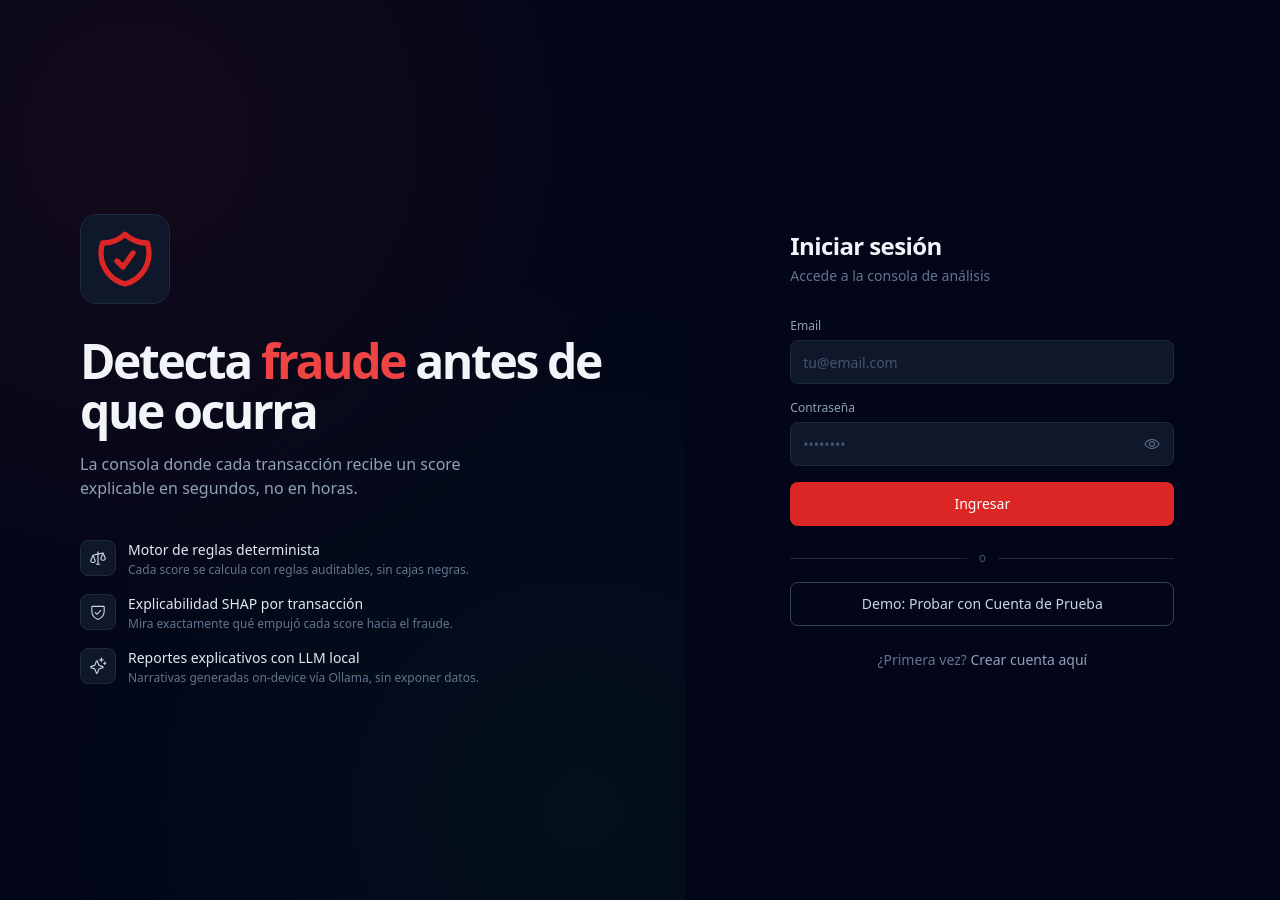
Scenario: LoginPage › shows the reserved error line for an invalid email
This screenshot has width=1280, height=900.
Type "no-es-un-email" into the field labelled "Email".
click(982, 362); type("no-es-un-email")  # box x1=790 y1=340 x2=1174 y2=384
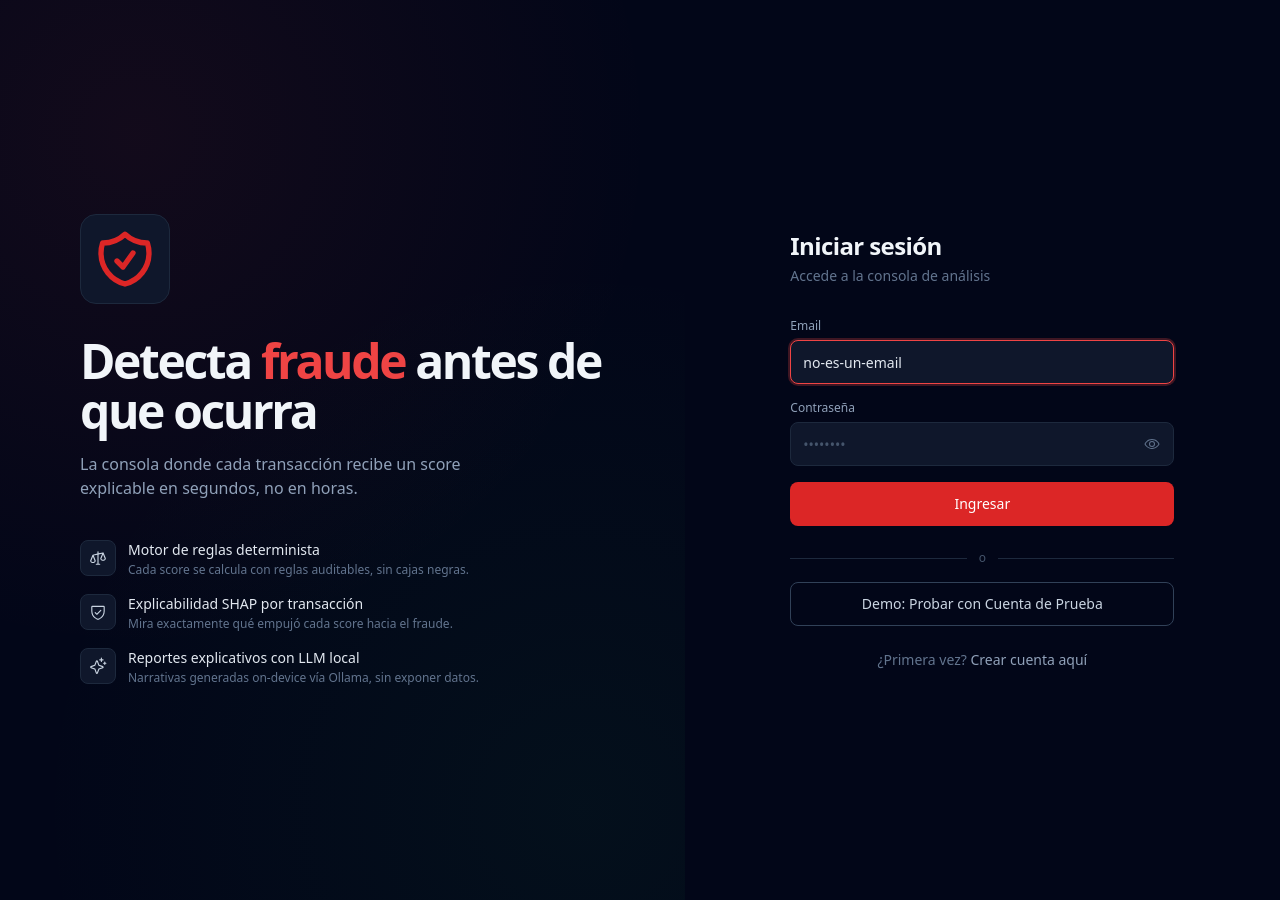
Type "whatever123" into the password field labelled "Contraseña".
click(982, 444); type("whatever123")  # box x1=790 y1=422 x2=1174 y2=466
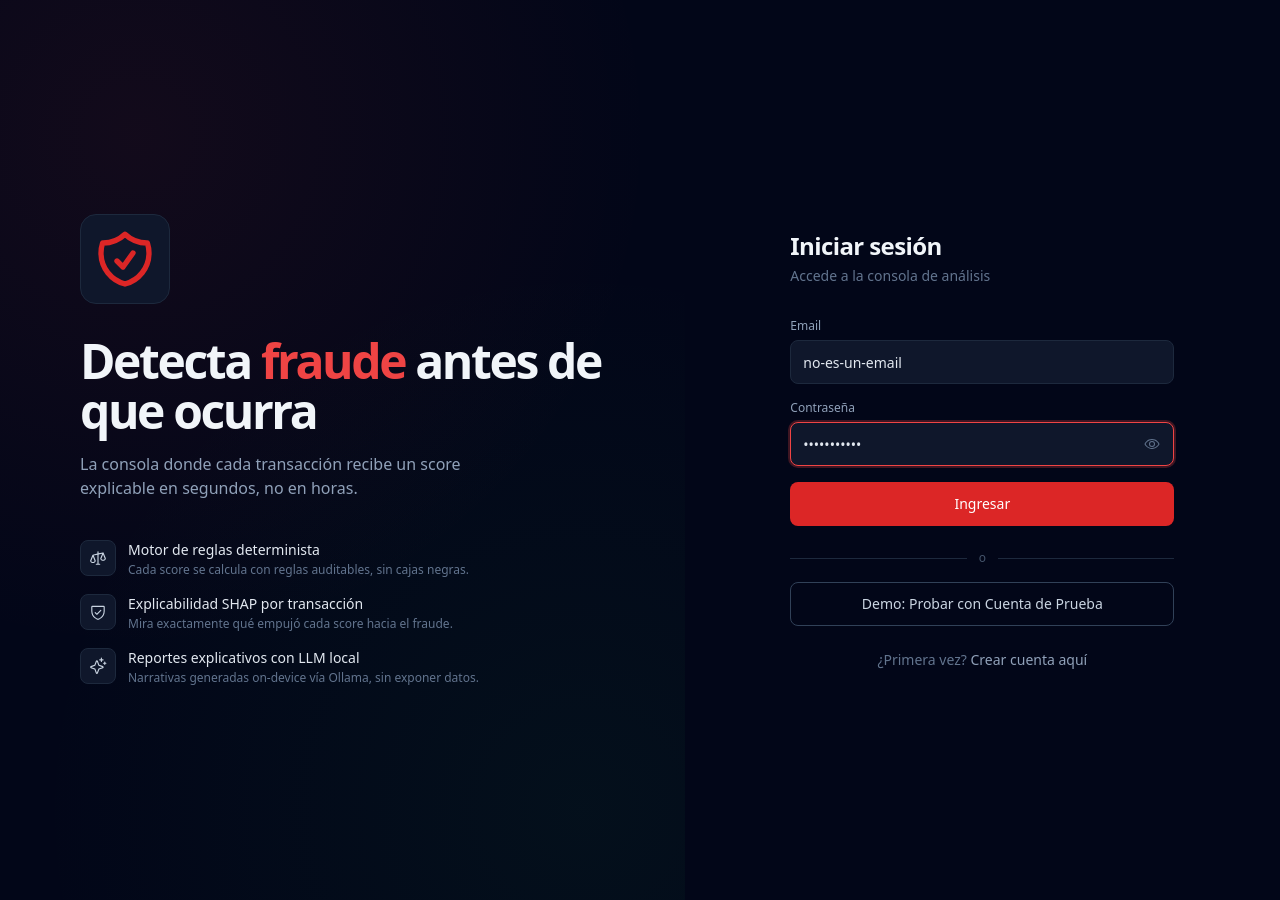
Click the button "Ingresar".
click(982, 504)  # box x1=790 y1=482 x2=1174 y2=526
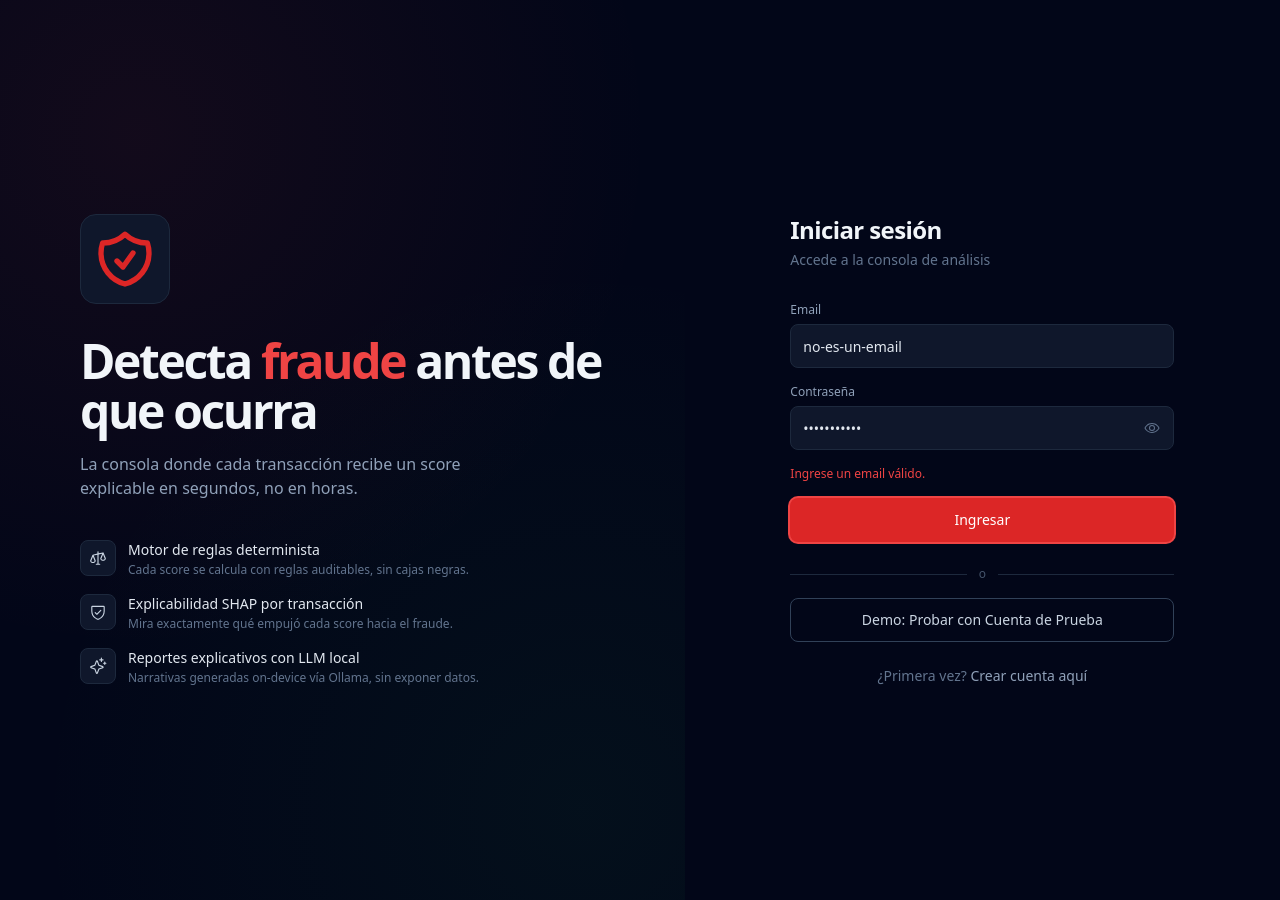
Expected: the message reads "Ingrese un email válido.", x1=790 y1=465 x2=925 y2=482
